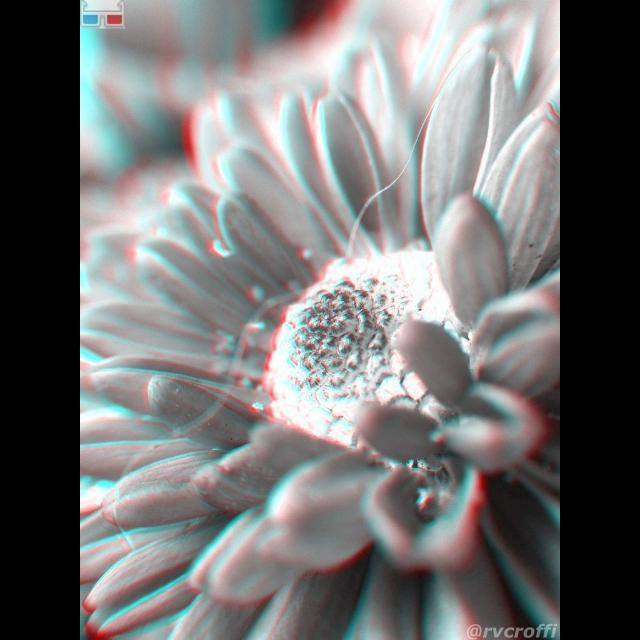Flower: (80, 1, 514, 596)
